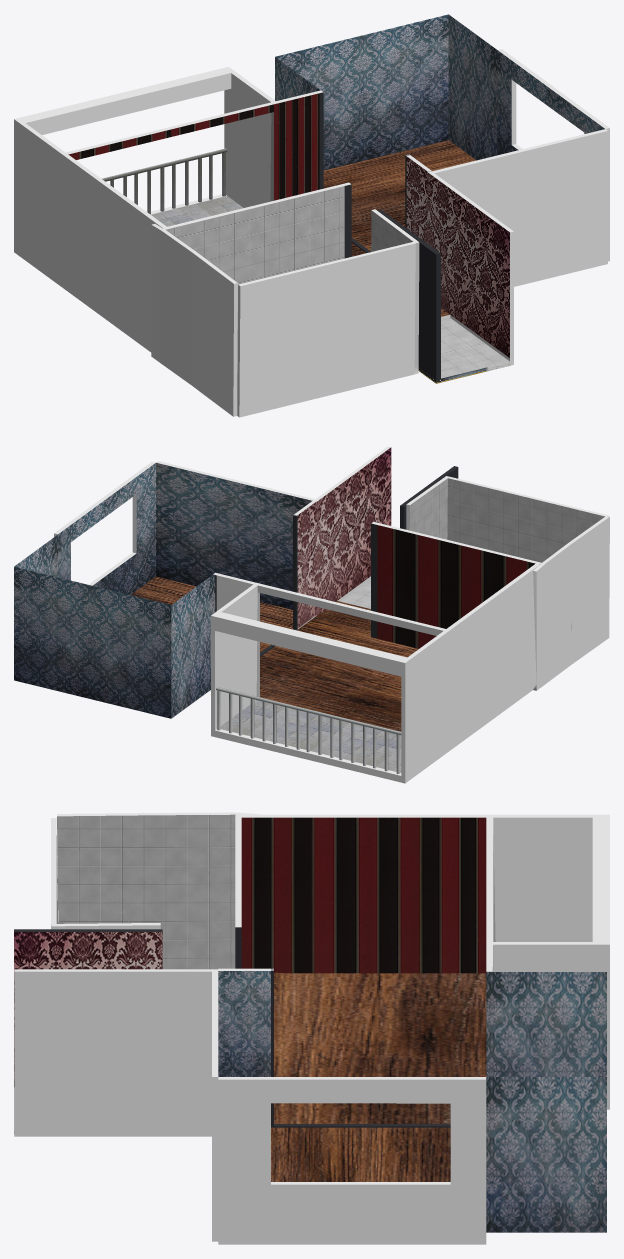
The model's file is Room2.fbx.
3 views of the same model, one above another, from view 1: azimuth 30°, elevation 25°; view 2: azimuth 150°, elevation 25°; view 3: azimuth 270°, elevation 25° (orthographic). The views are drawn at different scales.
Parts seen in each view (by area): view 1: Room:polySurface69; view 2: Room:polySurface69; view 3: Room:polySurface69.
Boxes of the visible parts, x1,y1,x2,y2 form: Room:polySurface69: (14,14,609,417); Room:polySurface69: (14,446,609,783); Room:polySurface69: (14,812,609,1244).
Bounding box in the file's own units: 122 × 35.69 × 115.
Materials: 5 (4 with a texture image).
